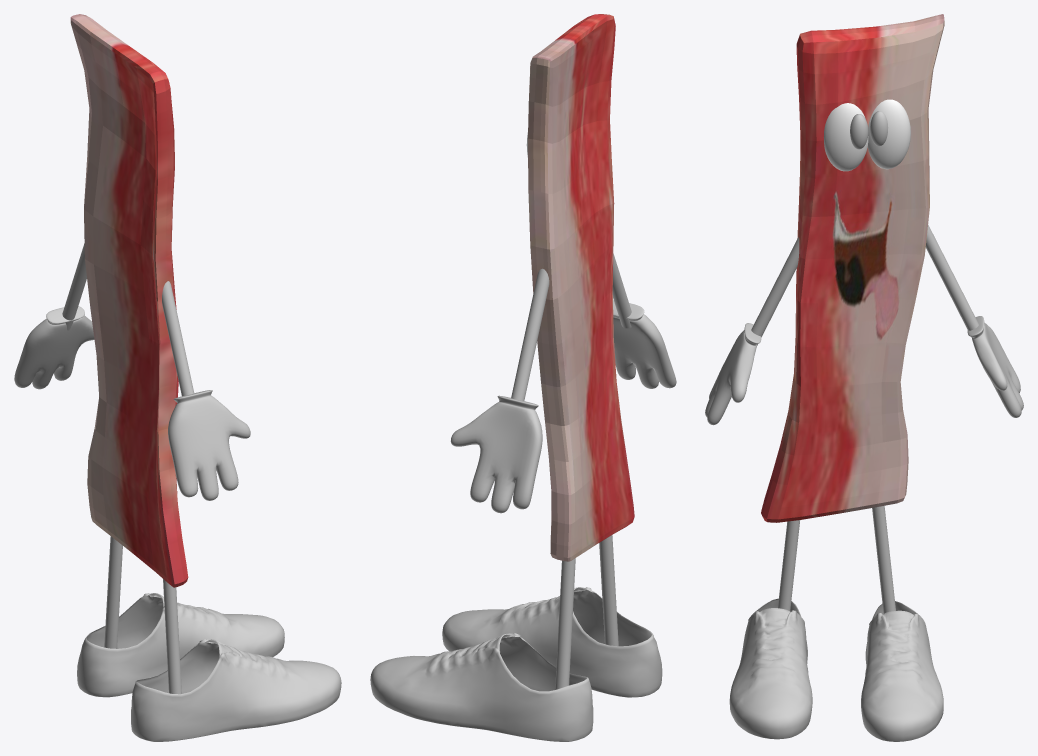
File: TocinoCharacter.obj
3 renders of one model, left to right at view 1: azimuth 30°, elevation 25°; view 2: azimuth 150°, elevation 25°; view 3: azimuth 270°, elevation 25°, orthographic. The views are drawn at different scales.
Visible parts, largest first — view 1: Tocino:Mesh, Tenis1:Mesh, Mano1:Plane001, Plane001, pCylinder3, pCylinder1, pCylinder4, pCylinder2; view 2: Tocino:Mesh, Tenis1:Mesh, Plane001, Mano1:Plane001, pCylinder2, pCylinder4, pCylinder3, pCylinder1; view 3: Tocino:Mesh, Tenis1:Mesh, Mano1:Plane001, Plane001, pSphere1, pSphere2, pCylinder4, pCylinder2, pCylinder1, pCylinder3, pSphere4.
Boxes of the visible parts, x1=… form: Tocino:Mesh: x1=70, y1=14, x2=188, y2=587; Tenis1:Mesh: x1=77, y1=593, x2=341, y2=741; Mano1:Plane001: x1=168, y1=390, x2=250, y2=500; Plane001: x1=14, y1=306, x2=94, y2=389; pCylinder3: x1=163, y1=579, x2=181, y2=694; pCylinder1: x1=162, y1=281, x2=194, y2=396; pCylinder4: x1=104, y1=536, x2=122, y2=648; pCylinder2: x1=62, y1=243, x2=86, y2=330; Tocino:Mesh: x1=528, y1=14, x2=634, y2=561; Tenis1:Mesh: x1=370, y1=587, x2=662, y2=741; Plane001: x1=450, y1=395, x2=542, y2=513; Mano1:Plane001: x1=613, y1=300, x2=676, y2=388; pCylinder2: x1=511, y1=268, x2=549, y2=400; pCylinder4: x1=555, y1=558, x2=575, y2=689; pCylinder3: x1=599, y1=535, x2=618, y2=646; pCylinder1: x1=612, y1=253, x2=631, y2=328; Tocino:Mesh: x1=761, y1=14, x2=944, y2=522; Tenis1:Mesh: x1=729, y1=598, x2=943, y2=741; Mano1:Plane001: x1=705, y1=323, x2=761, y2=425; Plane001: x1=967, y1=316, x2=1023, y2=417; pSphere1: x1=823, y1=103, x2=868, y2=171; pSphere2: x1=867, y1=99, x2=910, y2=169; pCylinder4: x1=872, y1=505, x2=895, y2=613; pCylinder2: x1=925, y1=224, x2=978, y2=330; pCylinder1: x1=751, y1=237, x2=799, y2=345; pCylinder3: x1=778, y1=520, x2=800, y2=611; pSphere4: x1=850, y1=114, x2=868, y2=149.
Bounding box in the file's own units: 0.7339 × 2.22 × 0.9997.
